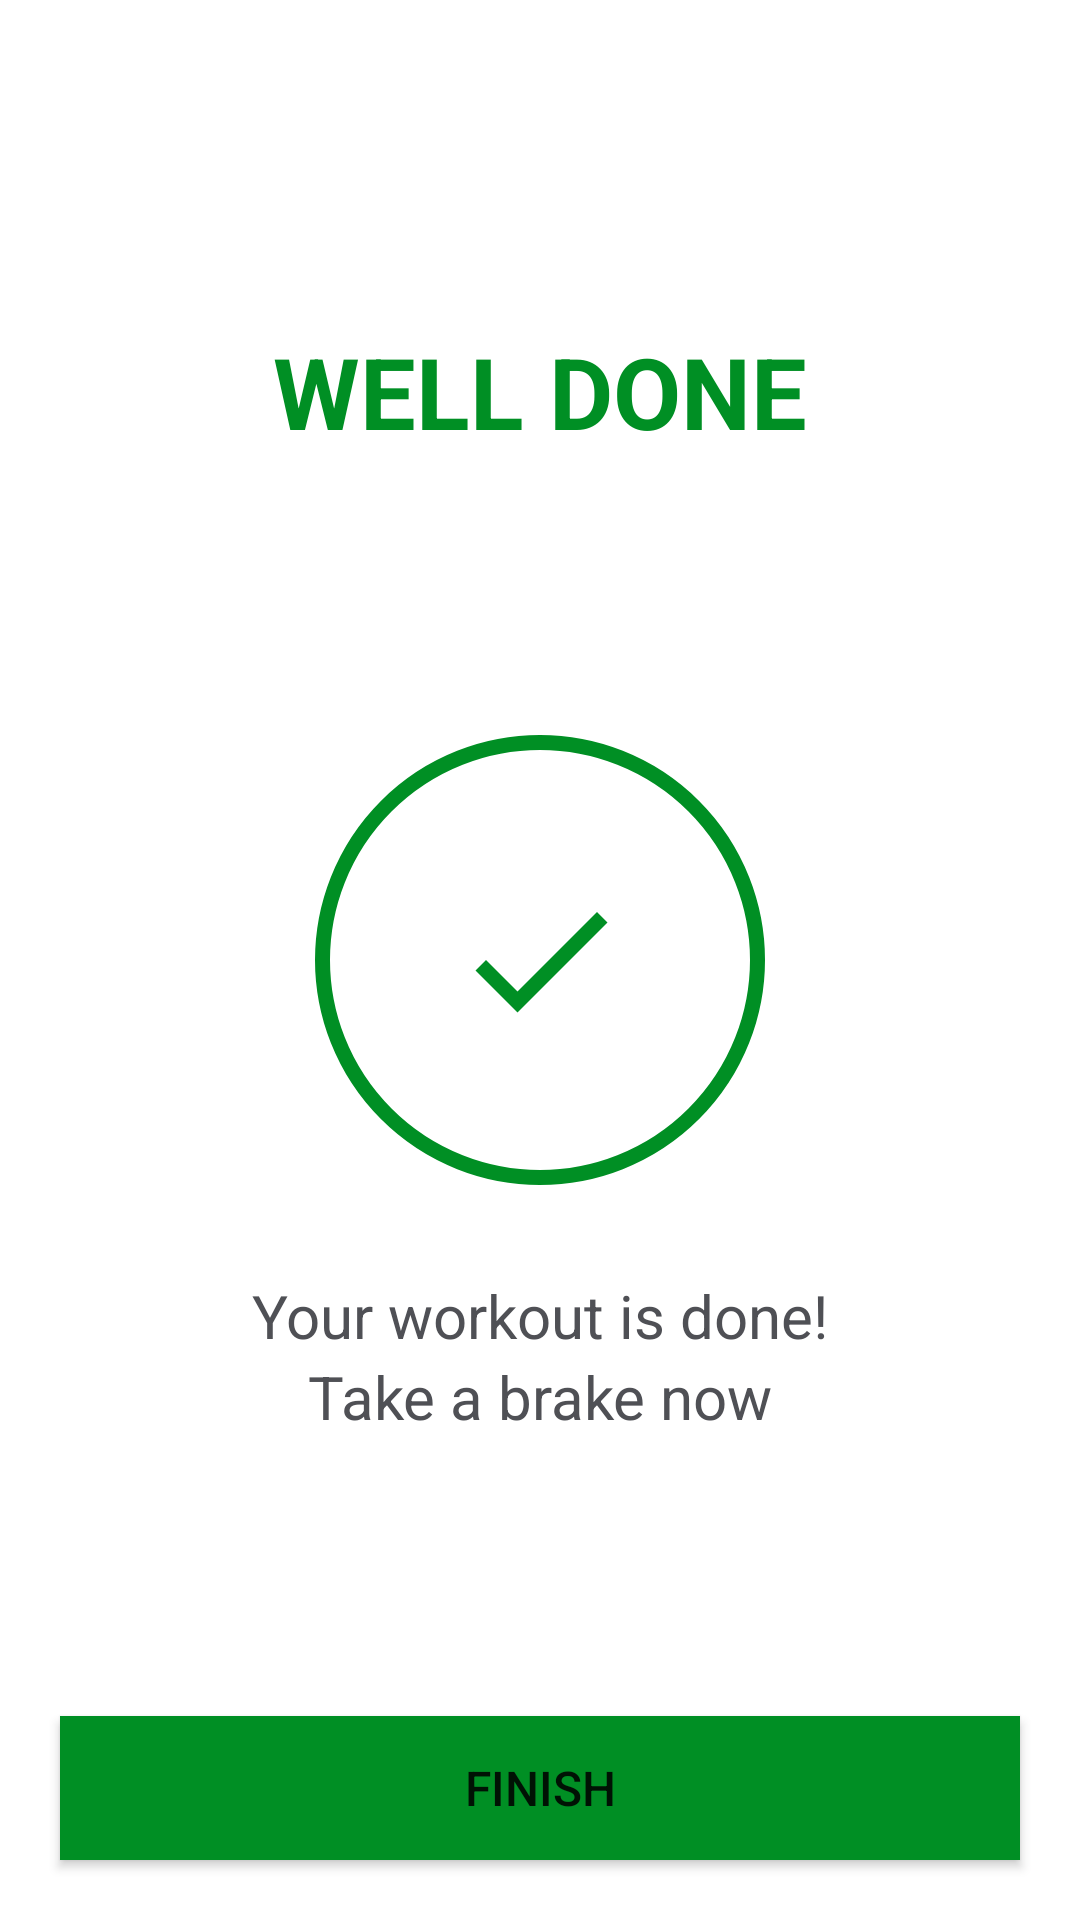

Icon bounding boxes for this 1080px x 1920px phone screenshot, format region(x1, y1, x2, y2):
done: region(475, 912, 608, 1013)
